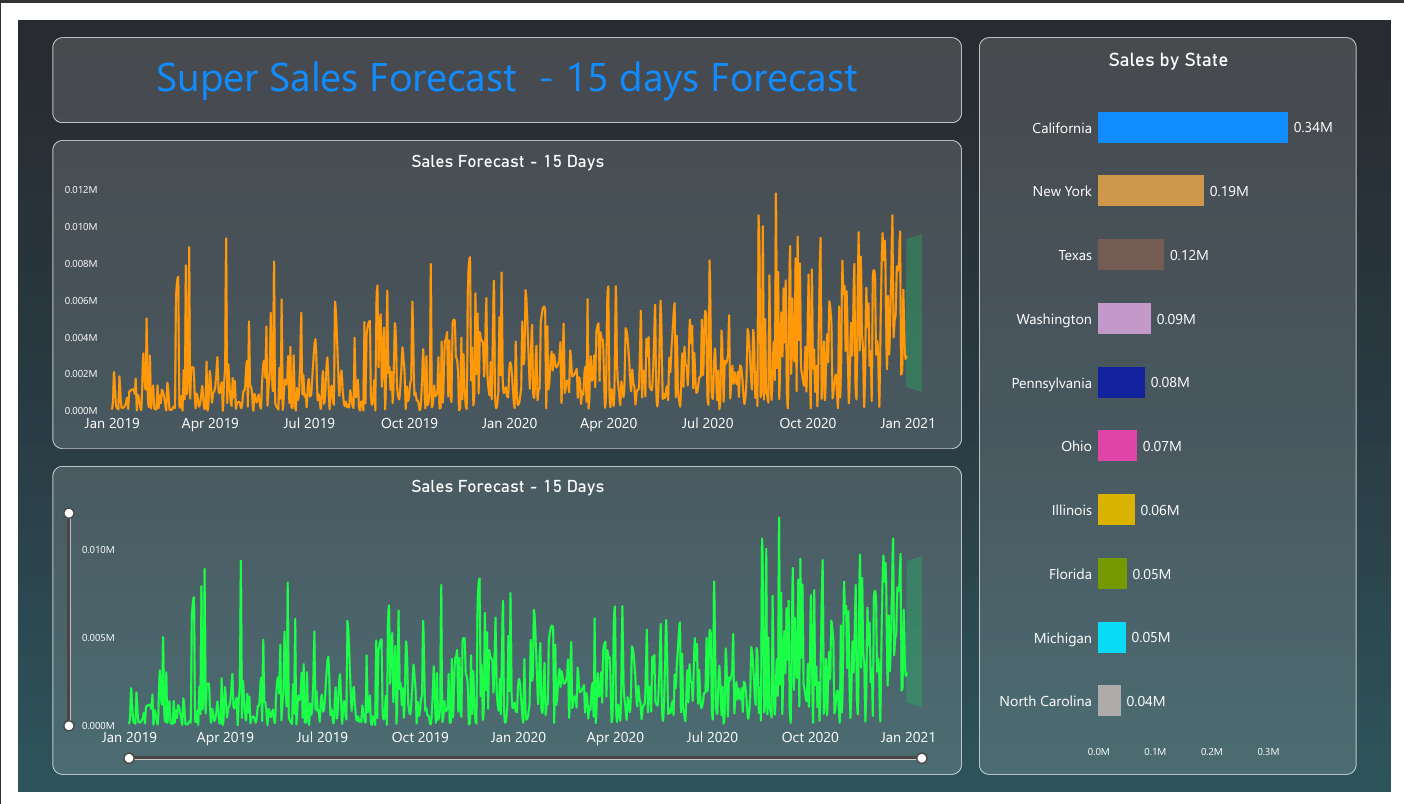

The page's visual inventory and layout, read from the dashboard file:
{"tool":"powerbi","page":{"name":"Page 2","canvas":[1920,1080],"ordinal":1},"visuals":[{"type":"lineChart","title":"Sales Forecast - 15 Days","fields":{"Category":["SuperStore_Sales_Dataset.Order Date"],"Y":["Sum(SuperStore_Sales_Dataset.Sales)"]},"box":[48,168,1272,432],"z":0},{"type":"lineChart","title":"Sales Forecast - 15 Days","fields":{"Category":["SuperStore_Sales_Dataset.Order Date"],"Y":["Sum(SuperStore_Sales_Dataset.Sales)"]},"box":[48,624,1272,432],"z":1000},{"type":"clusteredBarChart","title":"Sales by State","fields":{"Category":["SuperStore_Sales_Dataset.State"],"Y":["Sum(SuperStore_Sales_Dataset.Sales)"]},"box":[1344,24,528,1032],"z":2000},{"type":"textbox","box":[48,24,1272,120],"z":3000}]}

Visuals, with their boxes in screenshot pixels (x1, y1, x2, y2), scaled from the page's 1920x1080 canvas onto the 1404x804 screenshot:
"Sales Forecast - 15 Days" lineChart: Rect(35, 125, 965, 447)
"Sales Forecast - 15 Days" lineChart: Rect(35, 465, 965, 786)
"Sales by State" clusteredBarChart: Rect(983, 18, 1369, 786)
textbox: Rect(35, 18, 965, 107)
